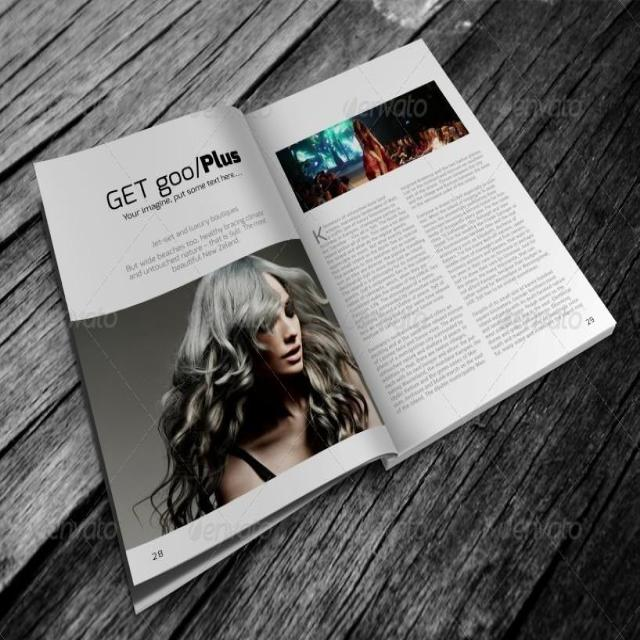paper: (35, 36, 617, 617)
